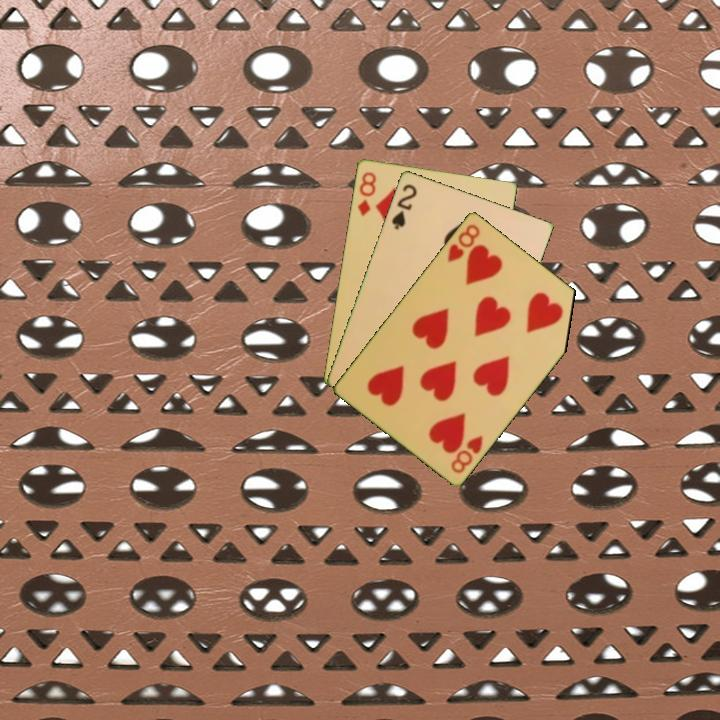2s: (388, 180, 420, 232)
8d: (354, 168, 379, 218)
8h: (444, 220, 483, 265), (447, 431, 486, 476)
